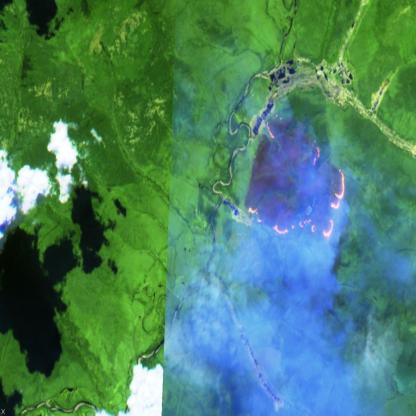fire: (241, 110, 345, 246)
